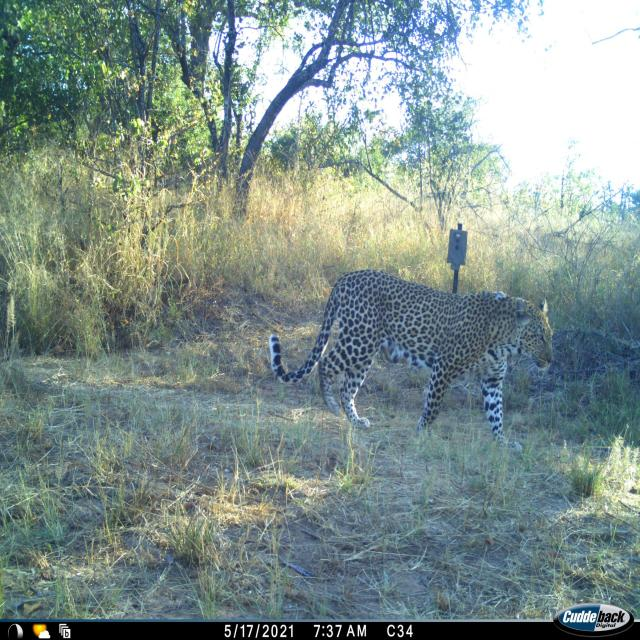Leopard: (259, 276, 548, 456)
